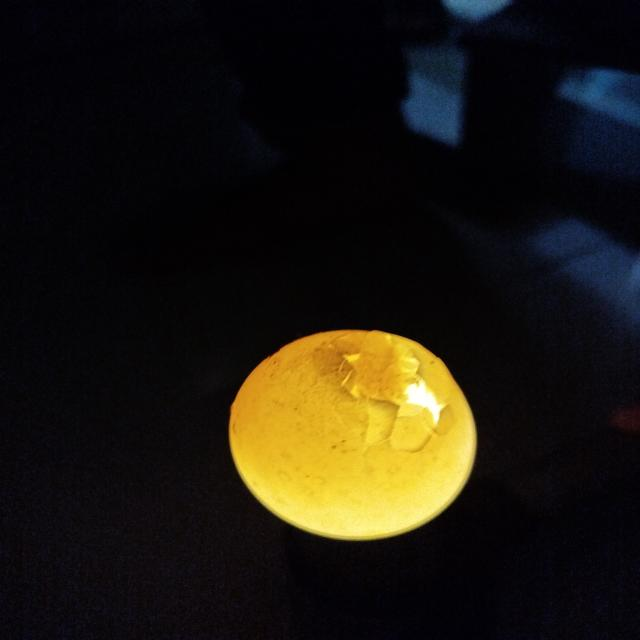Rachadura: (333, 334, 453, 459)
